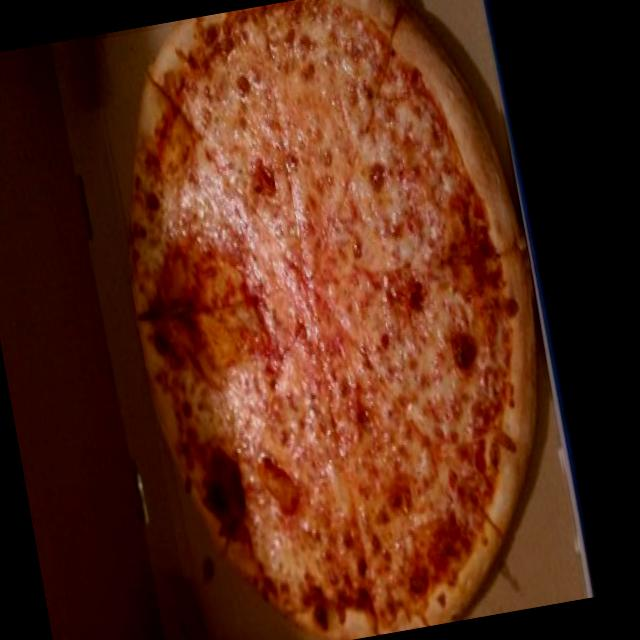pizza: (131, 0, 535, 638)
